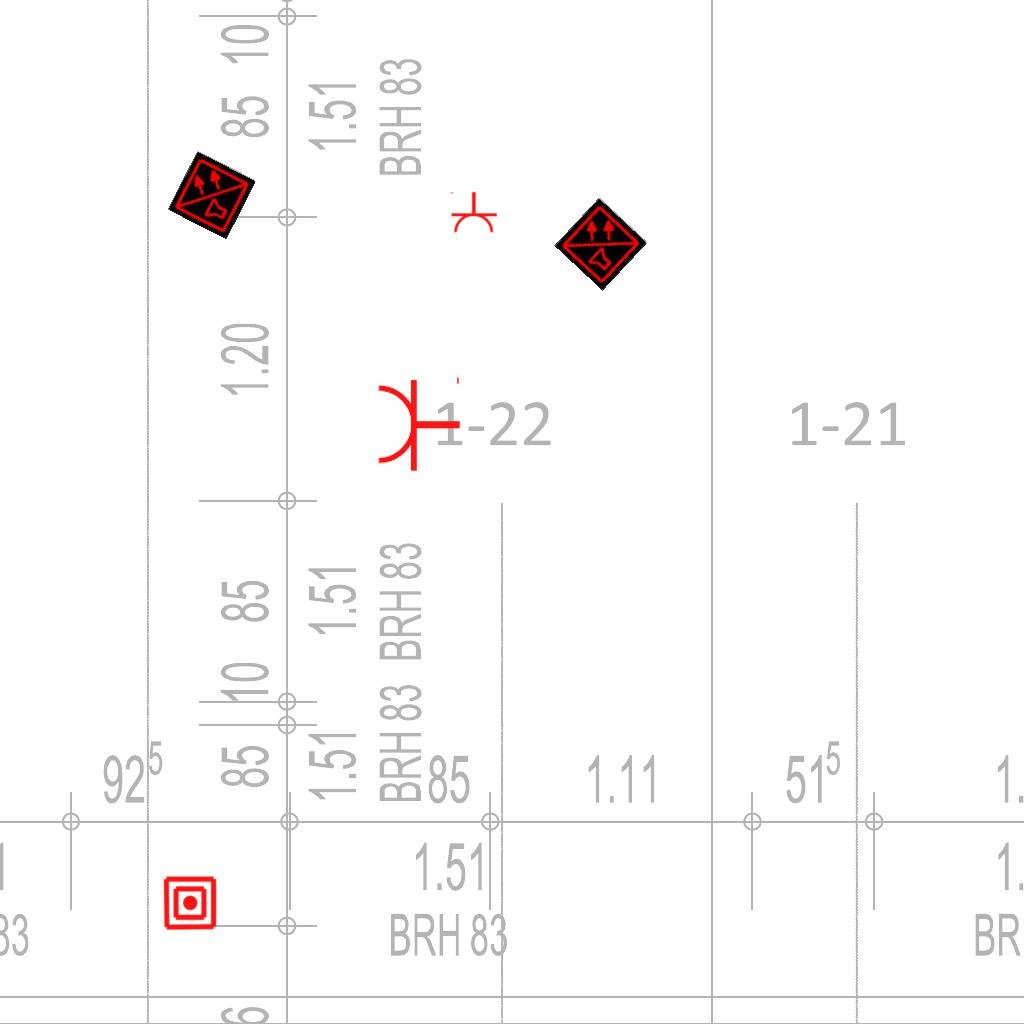NAM-Nichtautomatischer_Melder: (162, 875, 218, 931)
OKW_Multisensormelder_(Kombination_optischer_Rauch-Kahlenmonoxid_Waerme-Melder): (554, 197, 648, 291), (167, 150, 257, 240)
Schukosteckdose_einfach: (375, 373, 462, 473), (448, 191, 498, 234)
